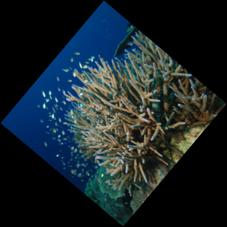bleached_corals: (19, 16, 227, 226)
